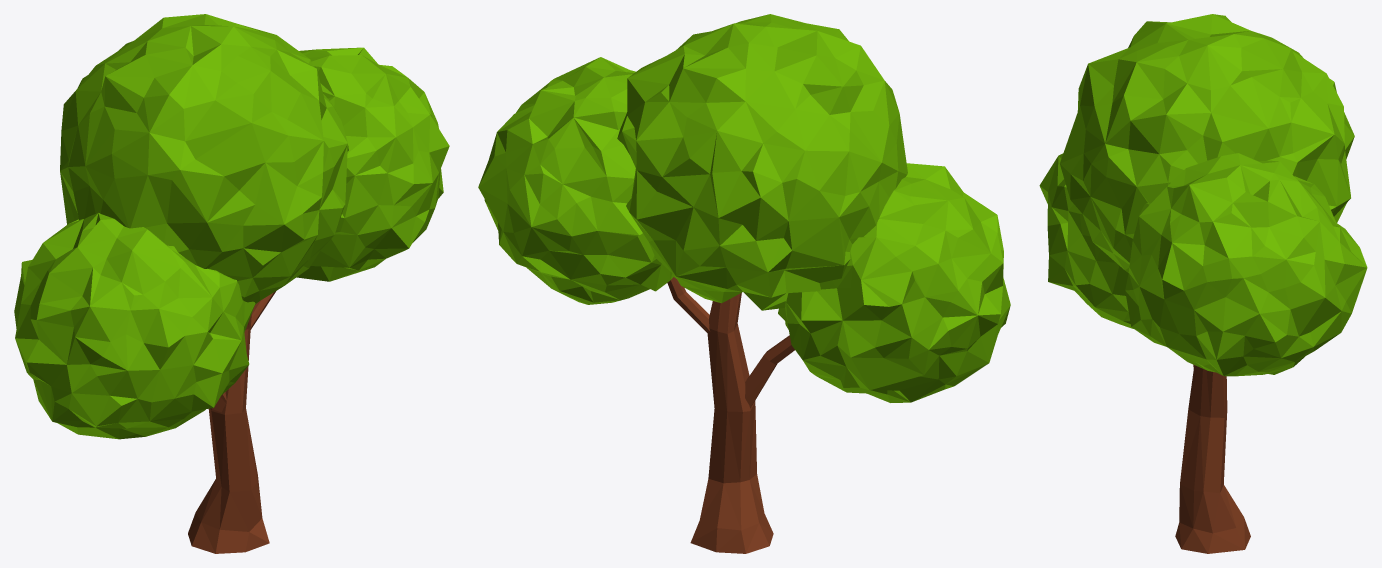
Rendered from growing-tree2.glb.
3 views of the same model, side by side, from view 1: azimuth 30°, elevation 25°; view 2: azimuth 150°, elevation 25°; view 3: azimuth 270°, elevation 25° (orthographic). The views are drawn at different scales.
Visible parts, largest first — view 1: Tree.2; view 2: Tree.2; view 3: Tree.2.
Part boxes in pixels (x1,y1,x2,y2): Tree.2: (14, 14, 449, 553); Tree.2: (478, 14, 1010, 553); Tree.2: (1039, 14, 1367, 553).
Bounding box in the file's own units: 0.4208 × 0.4557 × 0.2745.
